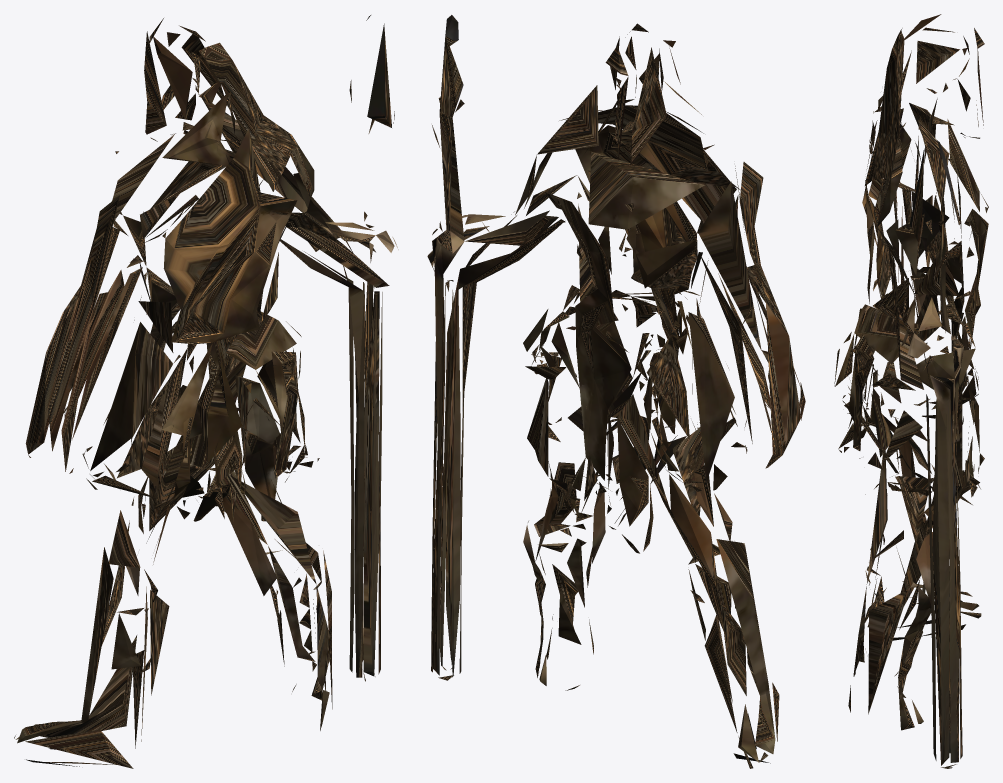
Rendered from odamees_trellis2_game.glb.
3 renders of one model, left to right at view 1: azimuth 30°, elevation 25°; view 2: azimuth 150°, elevation 25°; view 3: azimuth 270°, elevation 25°, orthographic. The views are drawn at different scales.
Visible parts, largest first — view 1: geometry_0; view 2: geometry_0; view 3: geometry_0.
Boxes of the visible parts, <box> form: geometry_0: <box>14,15,398,768</box>; geometry_0: <box>427,15,805,768</box>; geometry_0: <box>834,14,988,768</box>.
Size of the model in its own units: 0.2092 by 0.3856 by 0.0821.
1 material, 1 textured.
